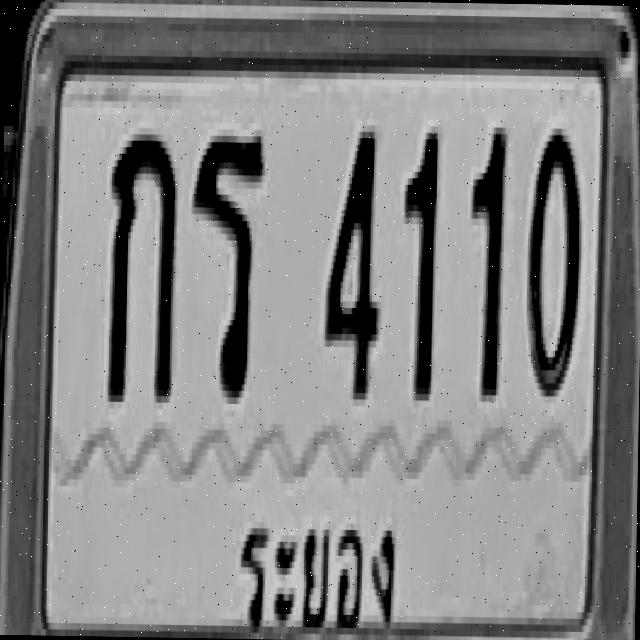0: (524, 124, 580, 400)
1: (466, 124, 506, 398), (399, 125, 438, 400)
10GorGai: (106, 127, 176, 403)
4: (322, 124, 380, 399)
44RorRuea: (189, 128, 264, 398)
Rayong: (228, 503, 411, 640)
